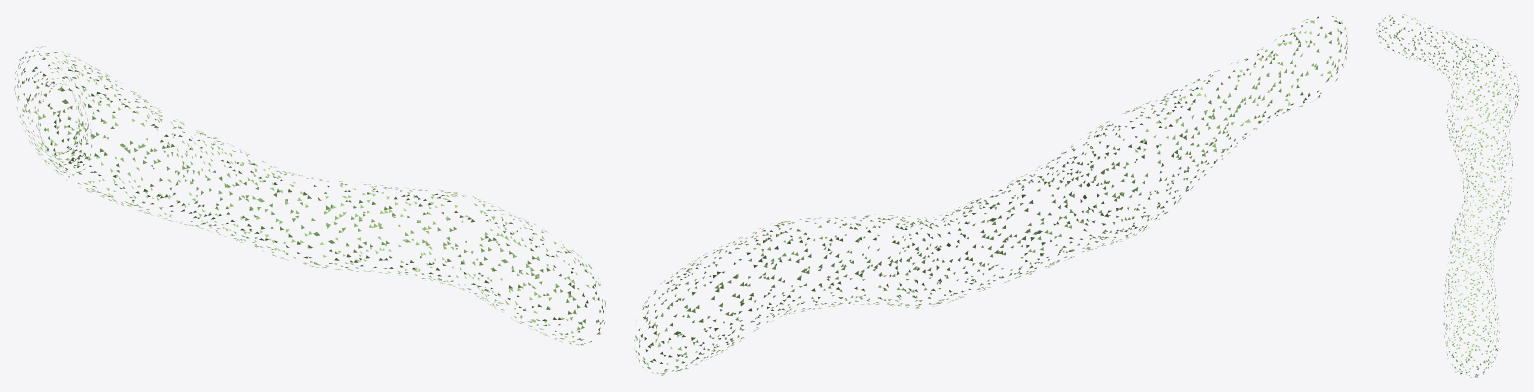
The model's file is morph_013.glb.
3 views of the same model, side by side, from view 1: azimuth 30°, elevation 25°; view 2: azimuth 150°, elevation 25°; view 3: azimuth 270°, elevation 25° (orthographic). The views are drawn at different scales.
Bounding box in the file's own units: 109 × 74.96 × 43.88.
